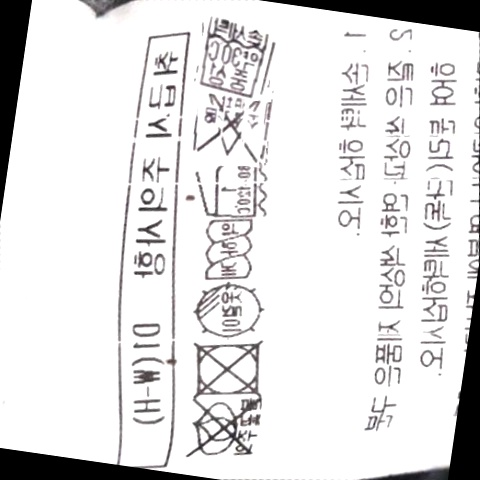DN_tumble_dry: (183, 330, 276, 406)
hand_wash: (191, 17, 279, 98)
iron_low: (193, 157, 268, 225)
line_dry_in_shade: (185, 277, 271, 343)
wring: (198, 214, 262, 287)
